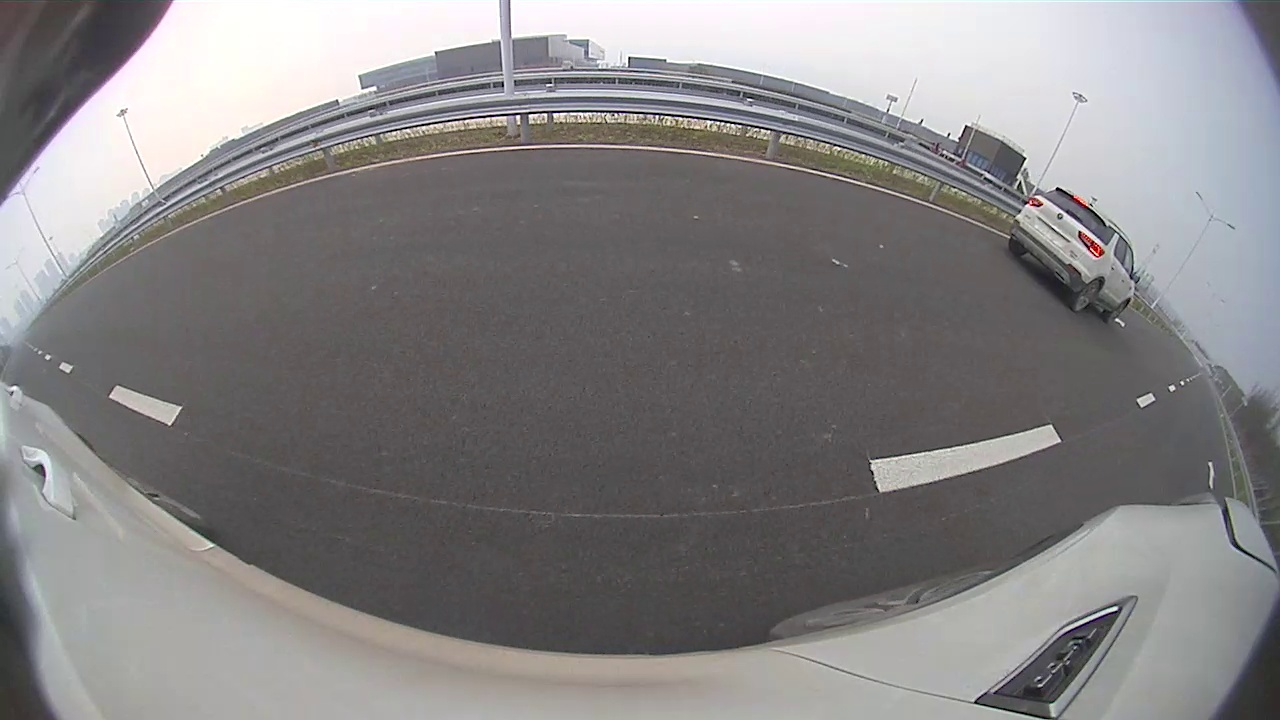car: (1007, 187, 1141, 324)
rear: (1070, 281, 1102, 317)
